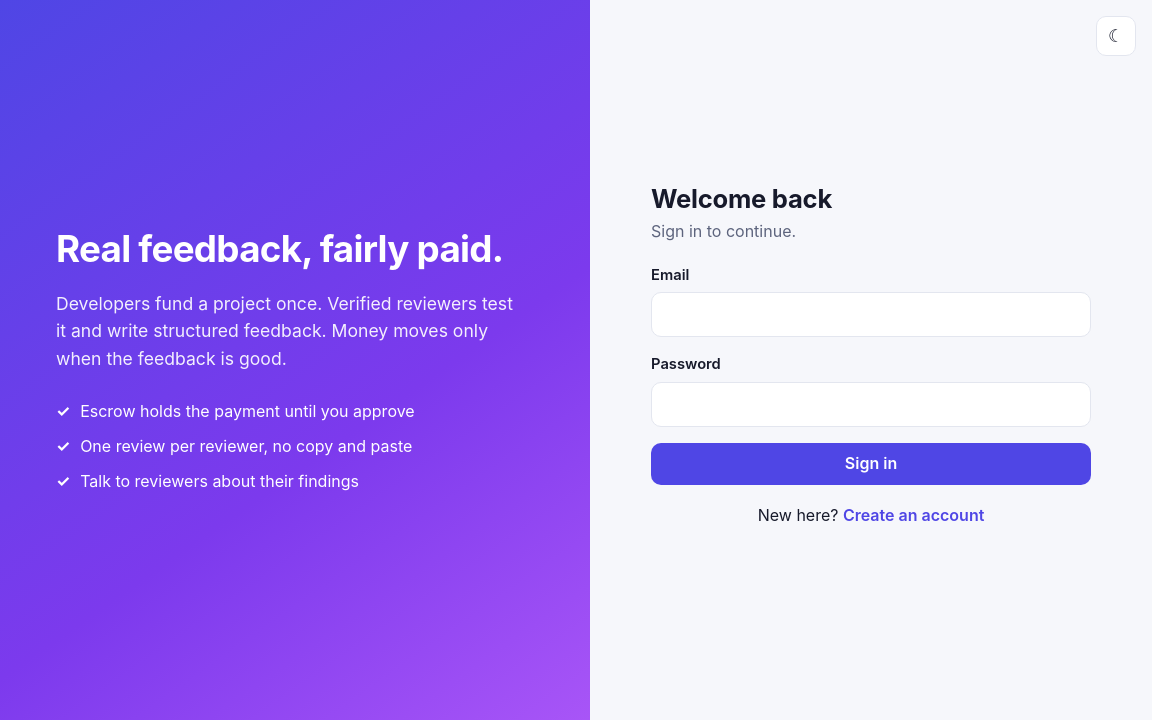
Scenario: sign in › shows the server message for bad credentials
Type "dana@demo.dev" into the field labelled "Email".
click(871, 315); type("dana@demo.dev")  # box [651,292,1091,337]
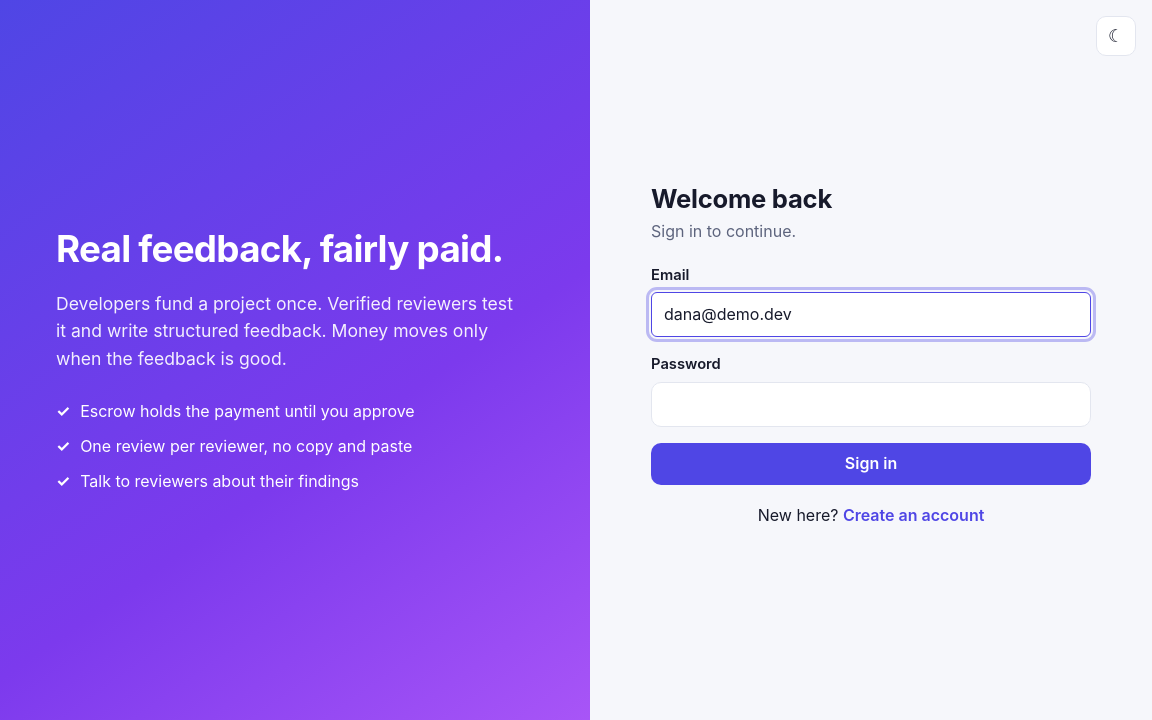
Type "wrong-password" into the password field labelled "Password".
click(871, 404); type("wrong-password")  # box [651,382,1091,427]
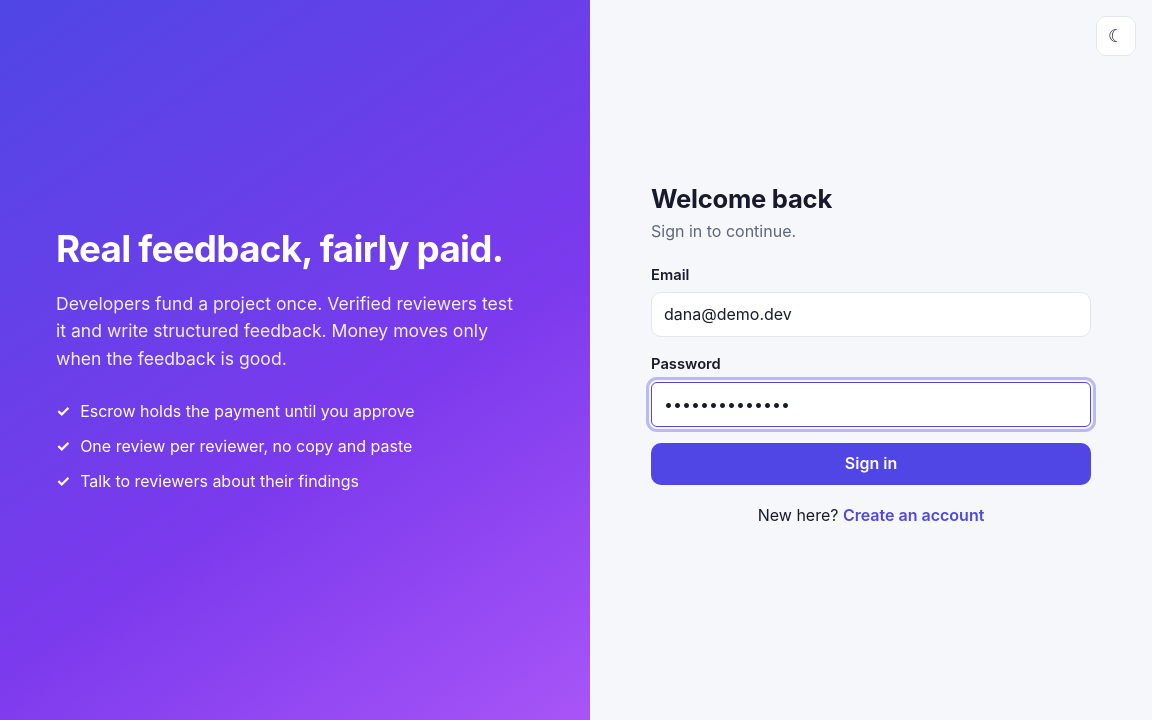
Click the button "Sign in".
click(871, 464)  # box [651,443,1091,485]
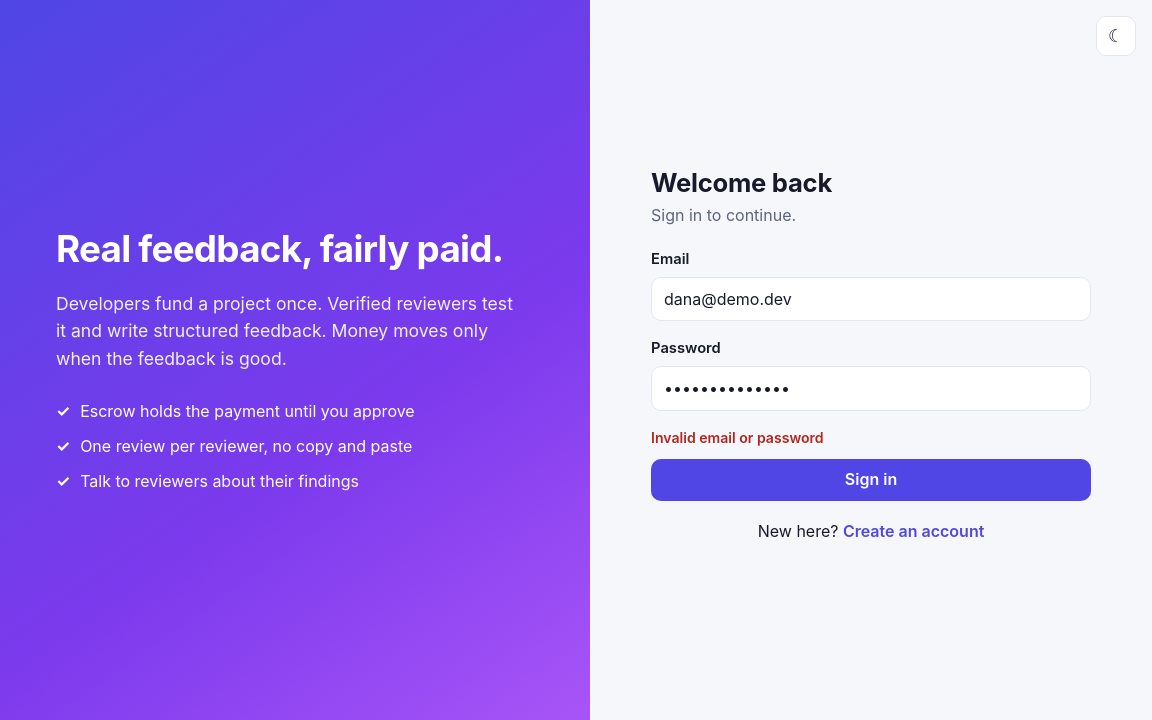
Expected: the message reads "Invalid email or password", [651,429,824,446]
